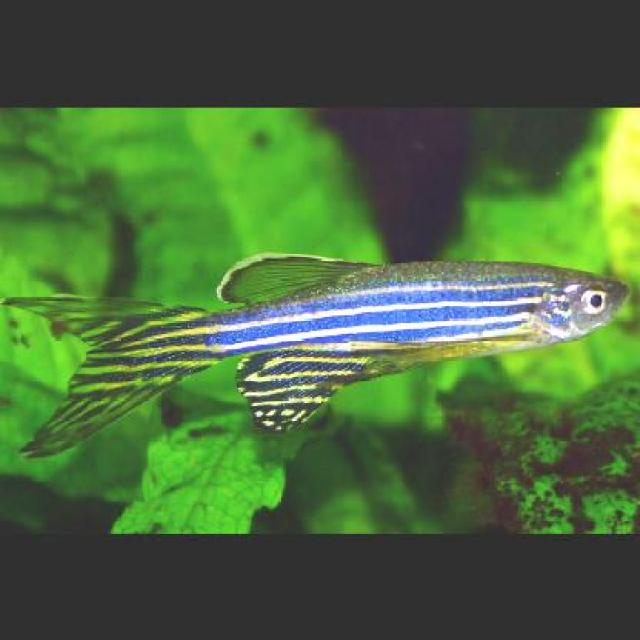ZebraFish: (180, 246, 632, 432)
